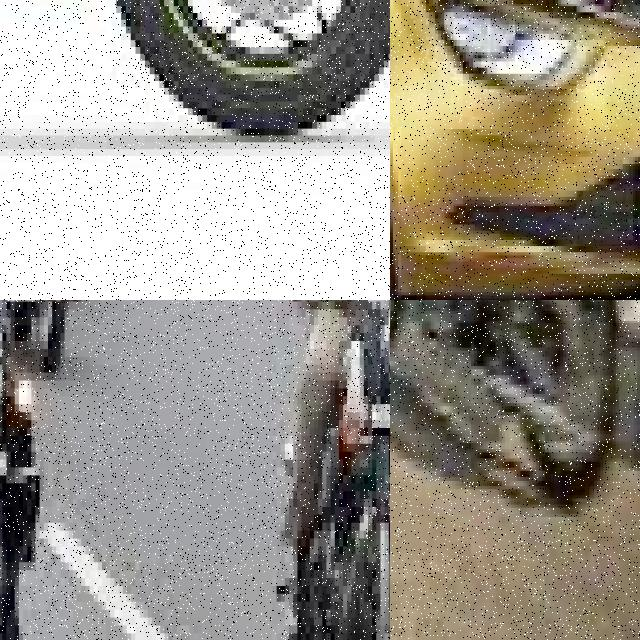bike: (0, 0, 390, 135), (276, 300, 390, 640), (0, 300, 52, 640), (0, 300, 114, 372)
car: (390, 0, 640, 300)
